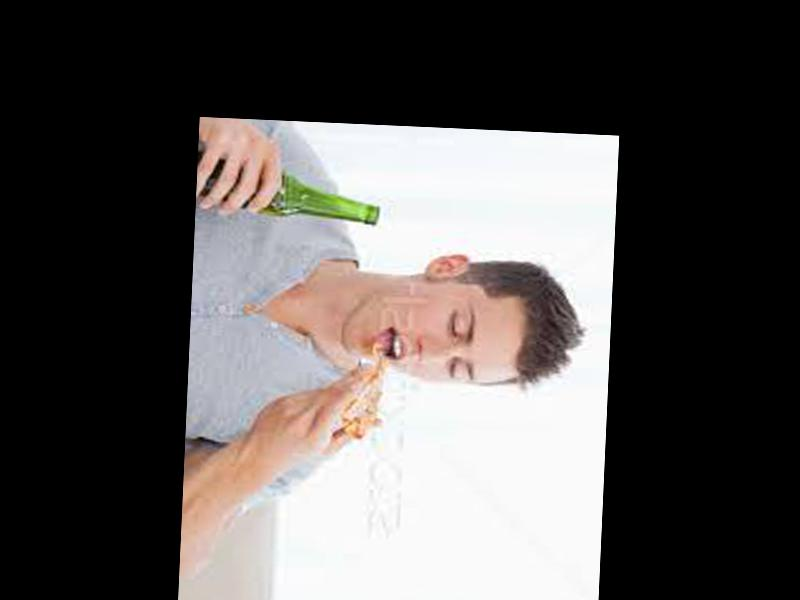Beer: (194, 149, 381, 226)
